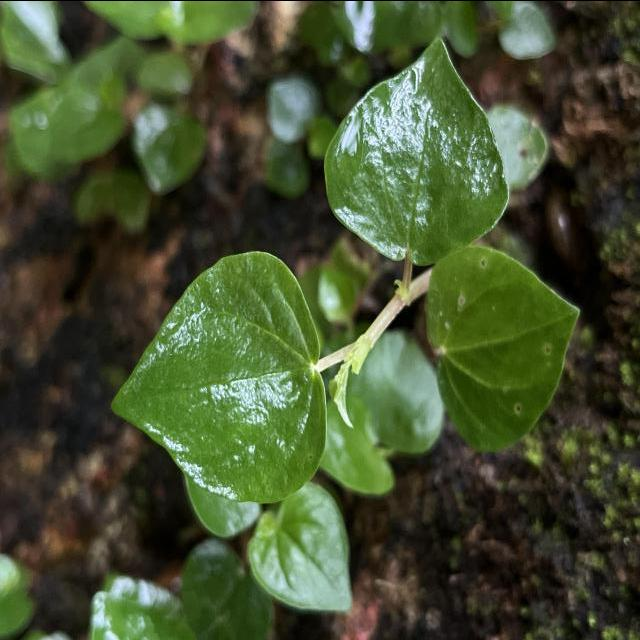Peperomia pellucida: (107, 247, 329, 507), (321, 32, 514, 268)
